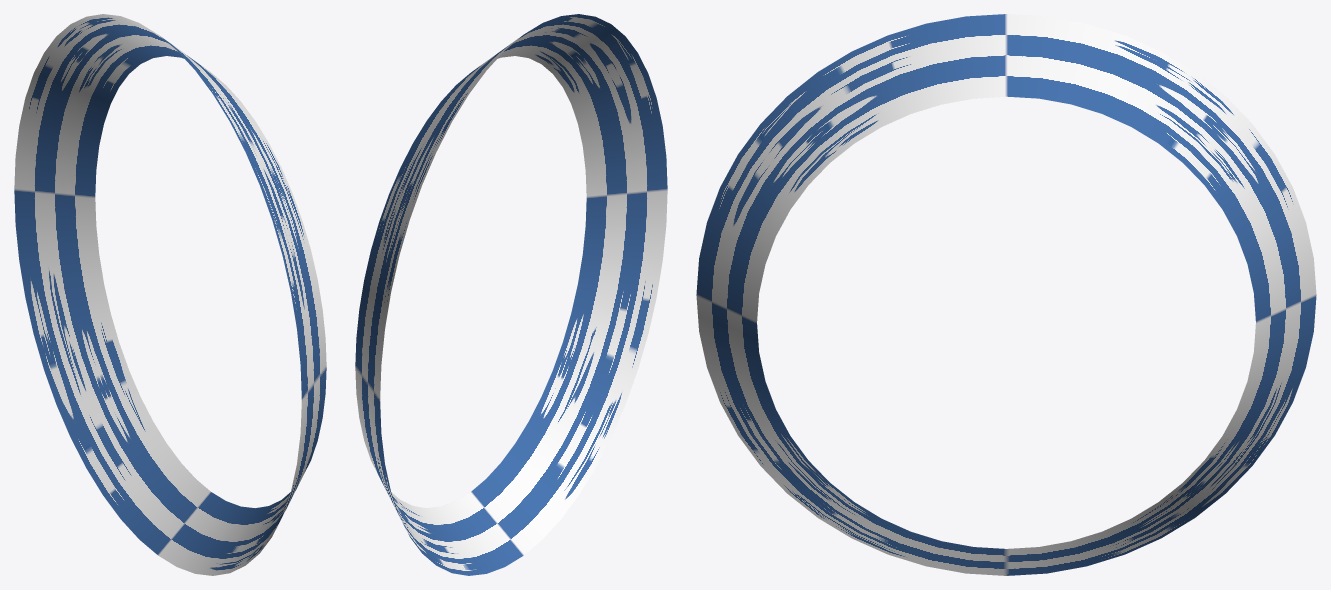
File: Ring14.fbx
3 views of the same model, side by side, from view 1: azimuth 30°, elevation 25°; view 2: azimuth 150°, elevation 25°; view 3: azimuth 270°, elevation 25° (orthographic). The views are drawn at different scales.
Visible parts, largest first — view 1: SM_e_cmn_Ring014; view 2: SM_e_cmn_Ring014; view 3: SM_e_cmn_Ring014.
Boxes of the visible parts, left/top/right/bottom form: SM_e_cmn_Ring014: left=14, top=14, right=326, bottom=575; SM_e_cmn_Ring014: left=355, top=14, right=667, bottom=575; SM_e_cmn_Ring014: left=696, top=14, right=1316, bottom=575.
Size of the model in its own units: 10.62 by 100 by 100.
